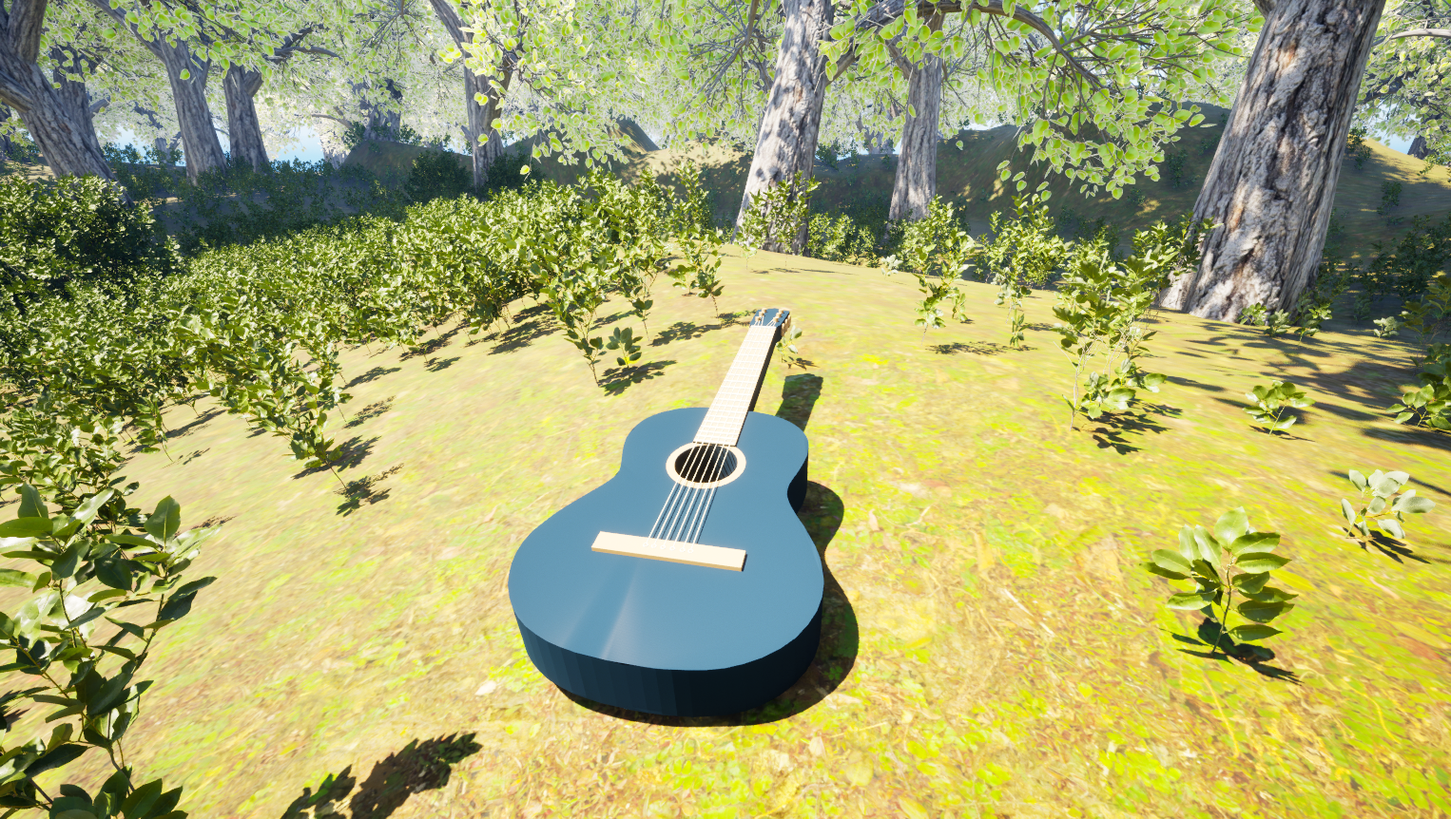Guitar: (427, 293, 855, 757)
